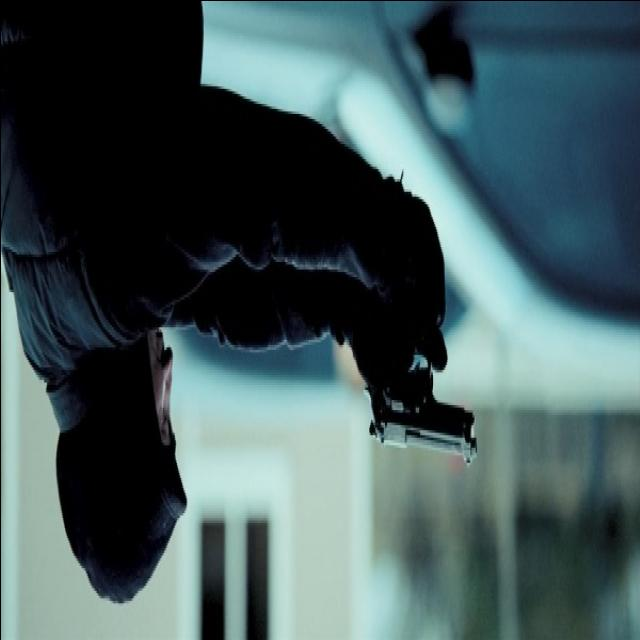weapons: (354, 268, 490, 488)
